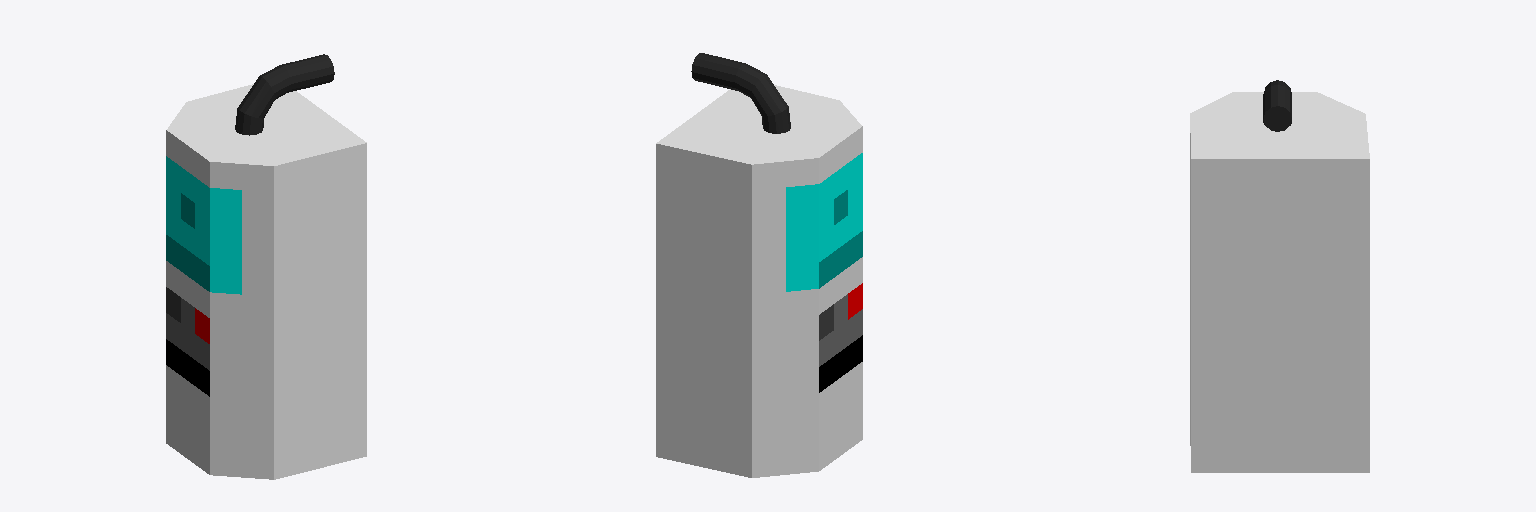
3 views of the same model, side by side, from view 1: azimuth 30°, elevation 25°; view 2: azimuth 150°, elevation 25°; view 3: azimuth 270°, elevation 25° (orthographic).
Visible parts, largest first — view 1: Pod, cylinder; view 2: Pod, cylinder; view 3: Pod, cylinder.
Part boxes in pixels (left/top/right/bottom): Pod: left=166, top=84, right=366, bottom=479; cylinder: left=235, top=54, right=334, bottom=135; Pod: left=656, top=85, right=862, bottom=477; cylinder: left=691, top=53, right=790, bottom=133; Pod: left=1190, top=92, right=1369, bottom=472; cylinder: left=1263, top=80, right=1291, bottom=131.
Bounding box in the file's own units: 0.3526 × 0.882 × 0.3906.
2 materials, 2 textured.